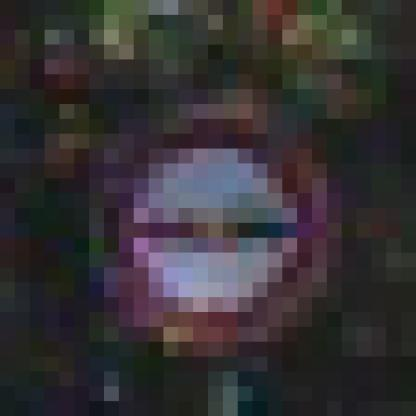No Overtaking: (75, 75, 343, 343)
